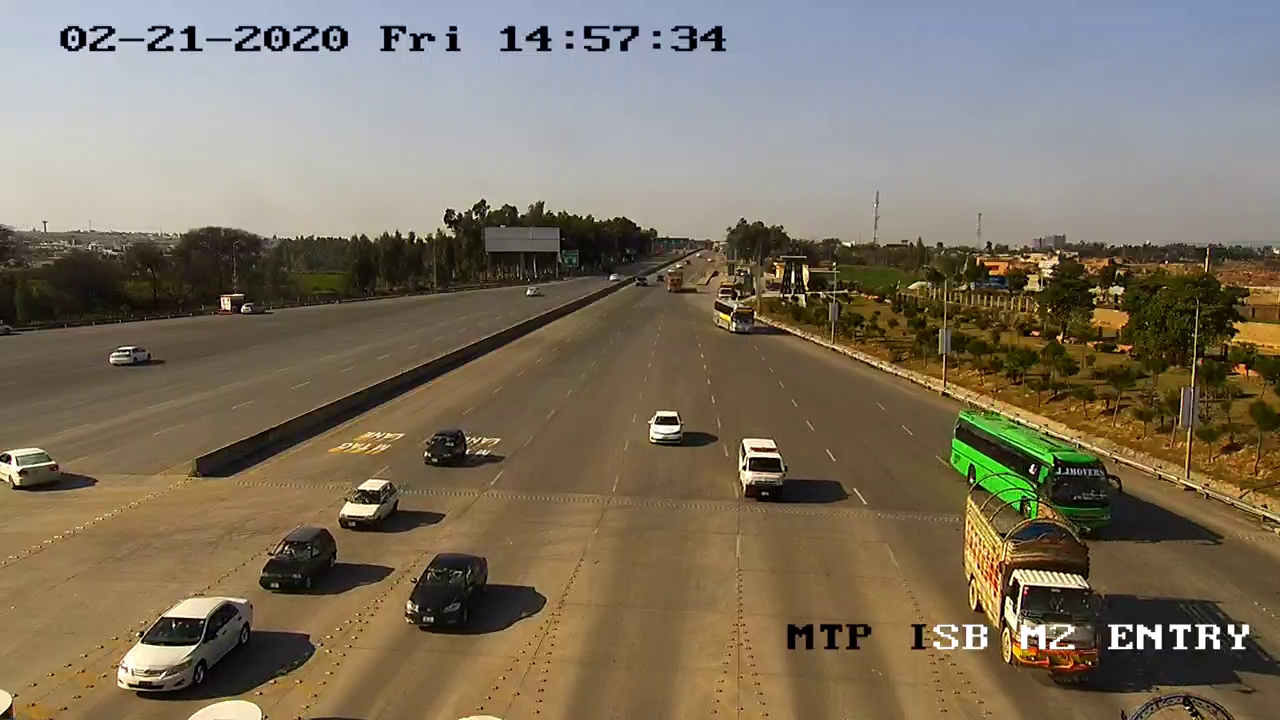f1: (102, 588, 265, 704), (394, 543, 498, 644), (248, 519, 343, 603), (334, 464, 402, 538), (411, 418, 479, 480), (736, 432, 790, 498), (639, 395, 692, 458)
f2: (733, 430, 790, 502)
f4: (937, 397, 1130, 536)
f5: (943, 464, 1108, 683)
